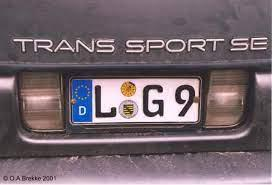9: (171, 85, 197, 118)
G: (140, 85, 165, 119)
L: (94, 85, 119, 119)
